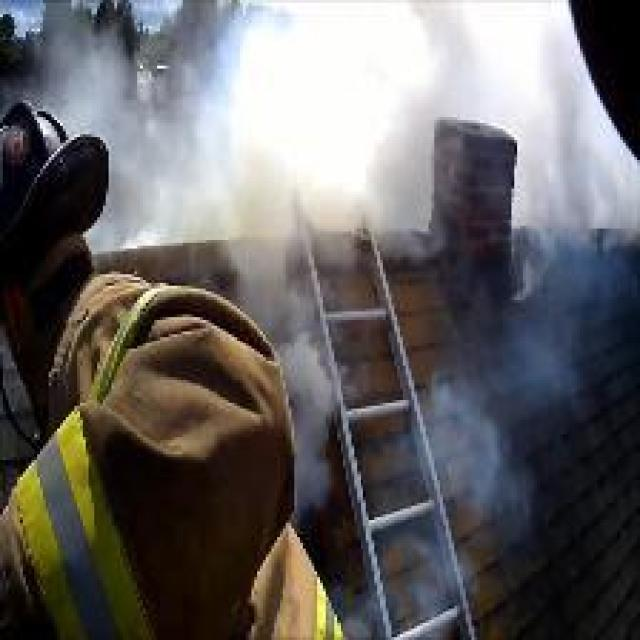other: (23, 456, 130, 616), (241, 49, 398, 143)
smoke: (501, 32, 596, 206), (213, 145, 405, 209)
